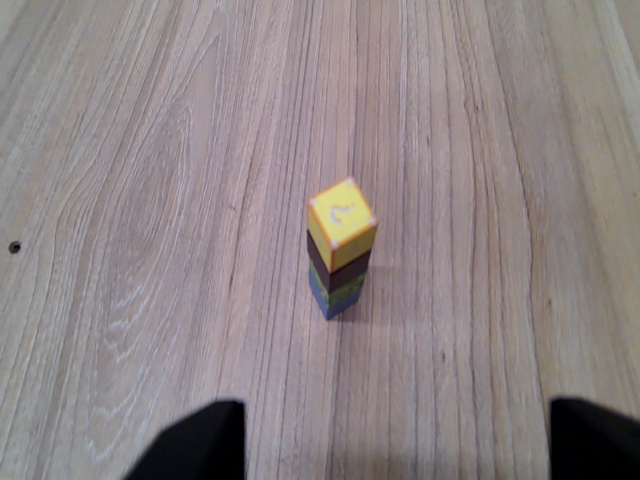brick: (323, 277, 373, 296), (308, 239, 359, 256)
grass: (307, 278, 351, 290)
lucky: (302, 176, 376, 257), (318, 298, 373, 314)
stone: (322, 314, 368, 329)
